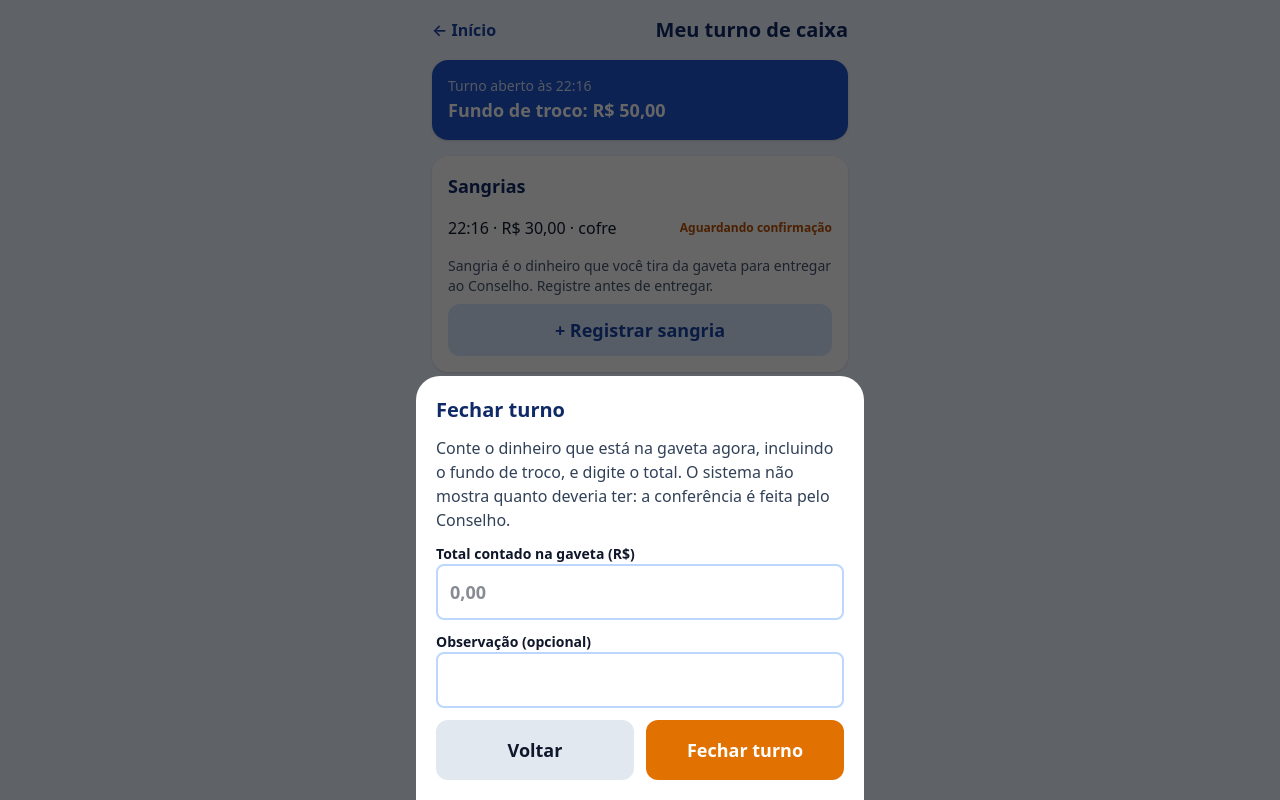
it: turno do caixa › com turno aberto: registra sangria e fecha SEM mostrar nada esperado; mostra só o agradecimento
This screenshot has width=1280, height=800.
Earlier steps of the test are not shown.
Click the button "Fechar turno" below "Observação (opcional)". click: (745,750)
box: [646,720,844,780]
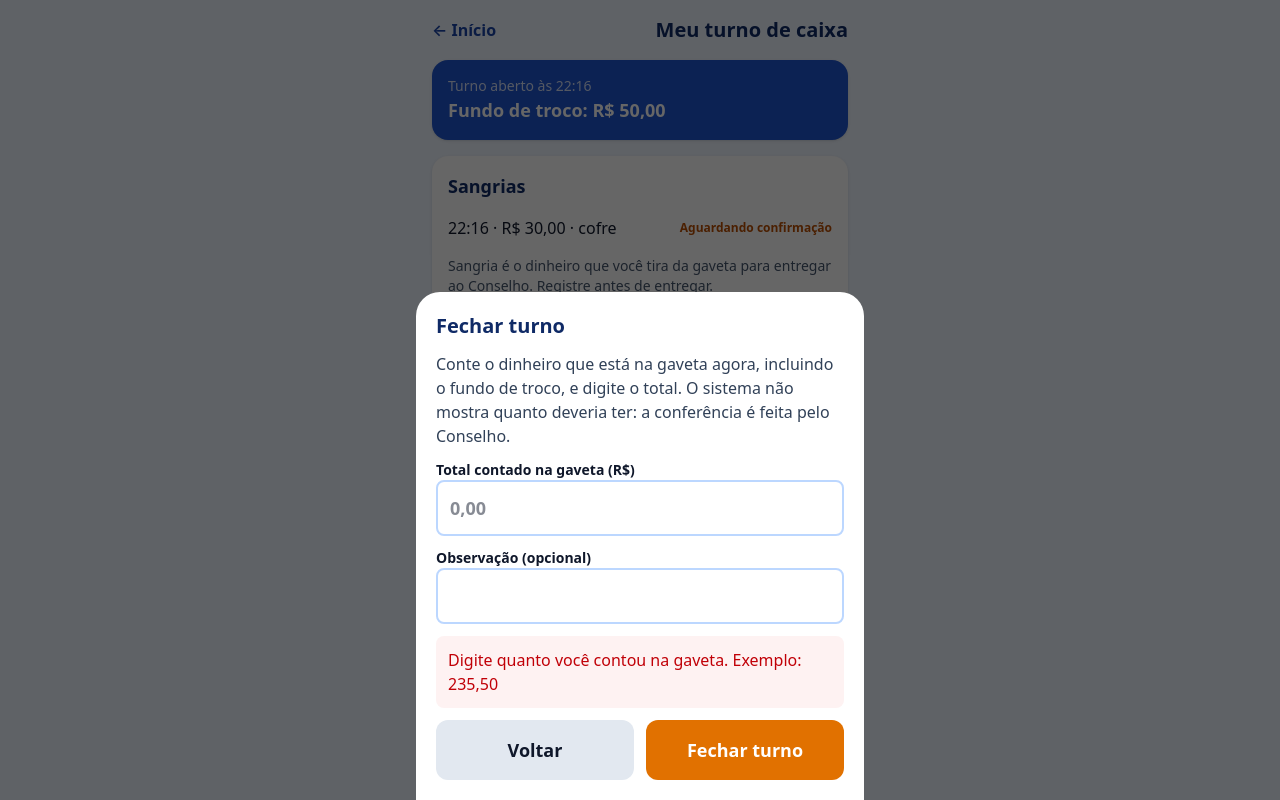
Expected: the message shows "quanto você contou", [448,649,802,695]
Type "39,00" into the field labelled "Total contado". click: (640,508)
box: [436,480,844,536]
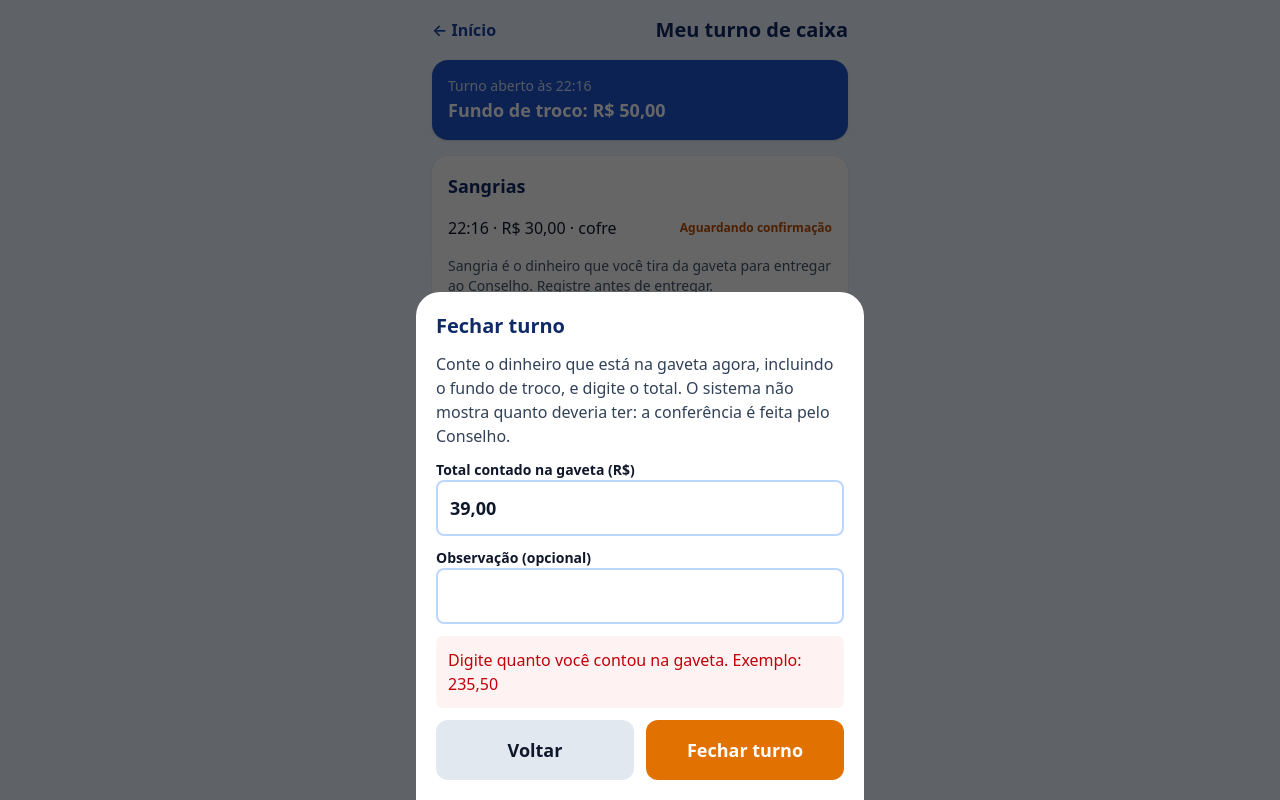
Click the button "Fechar turno" below "Observação (opcional)". click: (745,750)
box: [646,720,844,780]
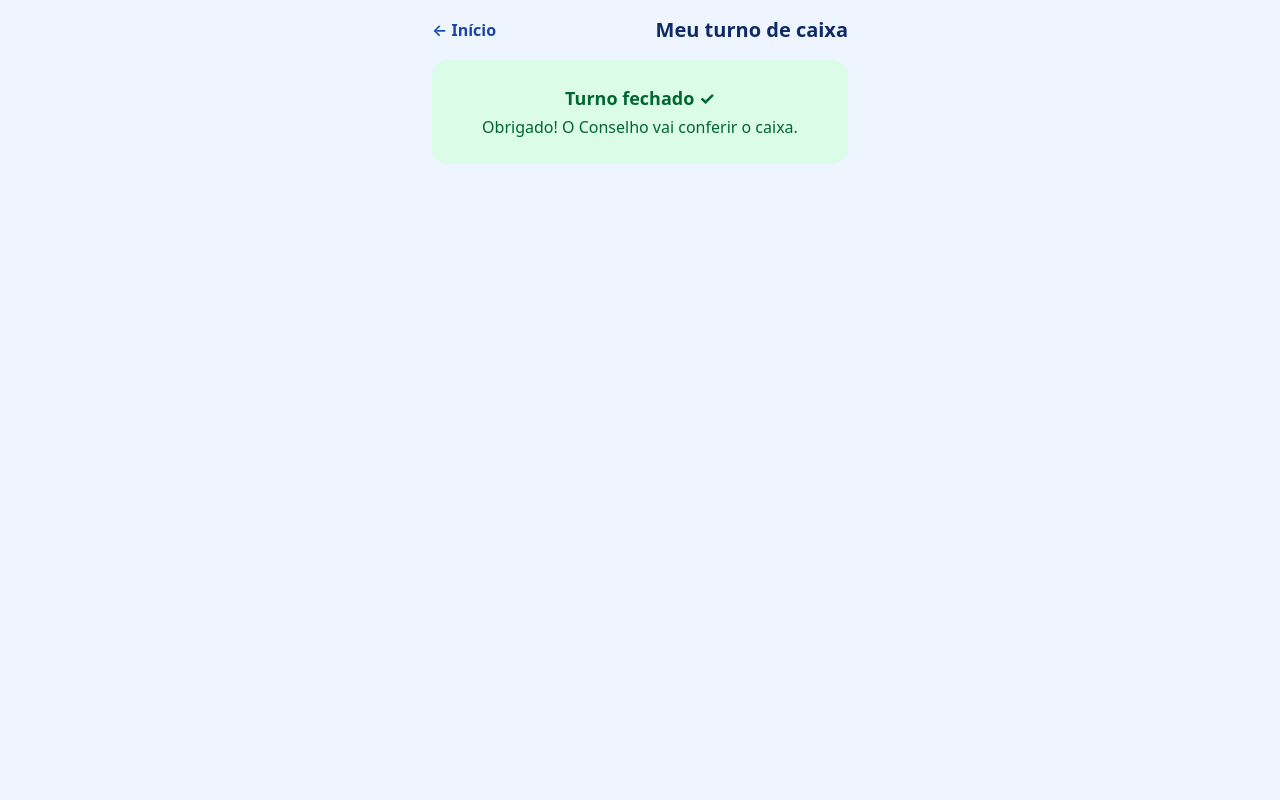
Expected: the text "Turno fechado ✓Obrigado! O Conselho vai conferir o caixa." is shown, [432,60,848,164]
